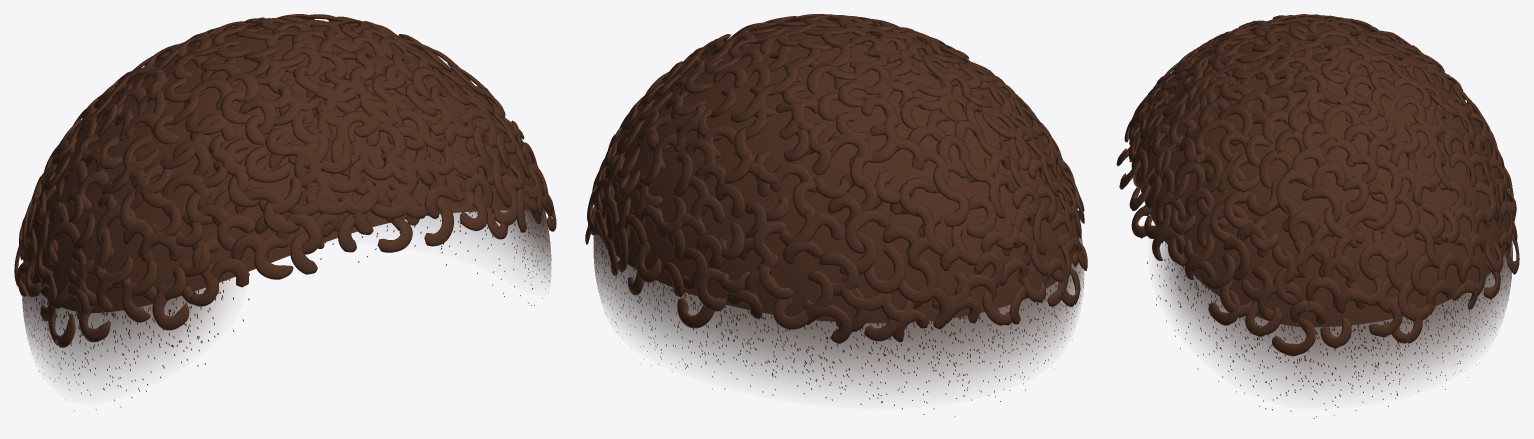
File: Masculine-curly-top-pashmina-hair.glb
3 views of the same model, side by side, from view 1: azimuth 30°, elevation 25°; view 2: azimuth 150°, elevation 25°; view 3: azimuth 270°, elevation 25° (orthographic). The views are drawn at different scales.
Visible parts, largest first — view 1: 226 hair / Hair / sculpted curl clusters227, 226 hair / Hair / curly taper density227, 226 hair / Hair / short taper grain227; view 2: 226 hair / Hair / sculpted curl clusters227, 226 hair / Hair / curly taper density227, 226 hair / Hair / short taper grain227; view 3: 226 hair / Hair / sculpted curl clusters227, 226 hair / Hair / curly taper density227, 226 hair / Hair / short taper grain227.
Boxes of the visible parts, x1,y1,x2,y2 form: 226 hair / Hair / sculpted curl clusters227: (14,14,556,347); 226 hair / Hair / curly taper density227: (22,208,550,380); 226 hair / Hair / short taper grain227: (22,209,551,410); 226 hair / Hair / sculpted curl clusters227: (585,14,1087,343); 226 hair / Hair / curly taper density227: (593,234,1084,391); 226 hair / Hair / short taper grain227: (593,235,1083,416); 226 hair / Hair / sculpted curl clusters227: (1116,14,1519,356); 226 hair / Hair / curly taper density227: (1158,238,1512,390); 226 hair / Hair / short taper grain227: (1147,240,1512,418).
Bounding box in the file's own units: 0.9976 × 0.6398 × 0.801.
